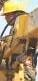gloves: (0, 70, 5, 81)
hard-hat: (0, 20, 10, 39)
